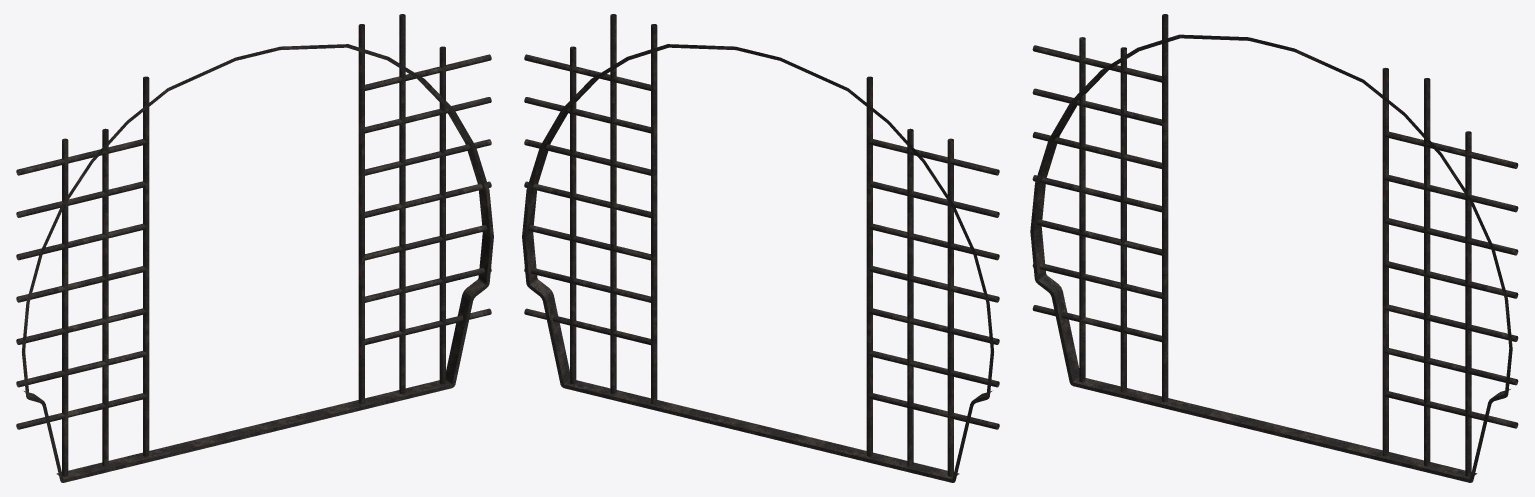
Rendered from bars_metal_3.obj.
3 renders of one model, left to right at view 1: azimuth 30°, elevation 25°; view 2: azimuth 150°, elevation 25°; view 3: azimuth 330°, elevation 25°, orthographic. The views are drawn at different scales.
Parts seen in each view (by area): view 1: bars_metal_3; view 2: bars_metal_3; view 3: bars_metal_3.
Boxes of the visible parts, x1,y1,x2,y2 form: bars_metal_3: [16, 14, 493, 482]; bars_metal_3: [522, 14, 999, 482]; bars_metal_3: [1030, 14, 1518, 482].
Bounding box in the file's own units: 3.5 × 2.72 × 0.1.
